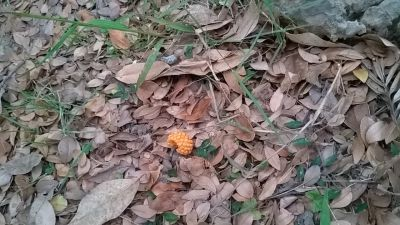eggs: (166, 131, 195, 155)
